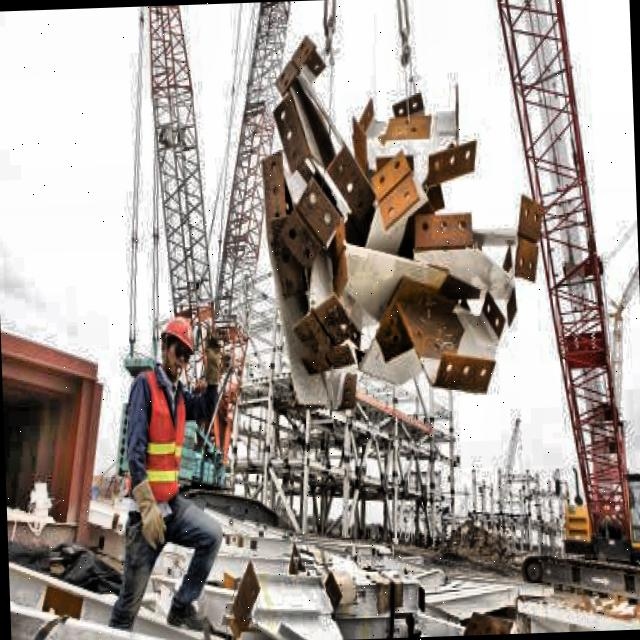helmet: (154, 308, 198, 378)
